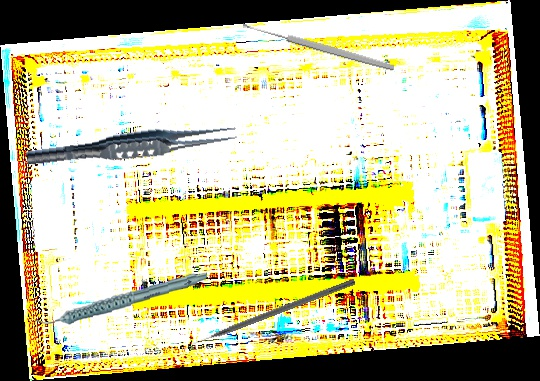Handpiece: (32, 270, 210, 327)
Hook Surgical: (189, 276, 356, 348)
Surgical Spoon: (241, 20, 396, 73)
Tissue Forceps: (25, 117, 238, 175)
